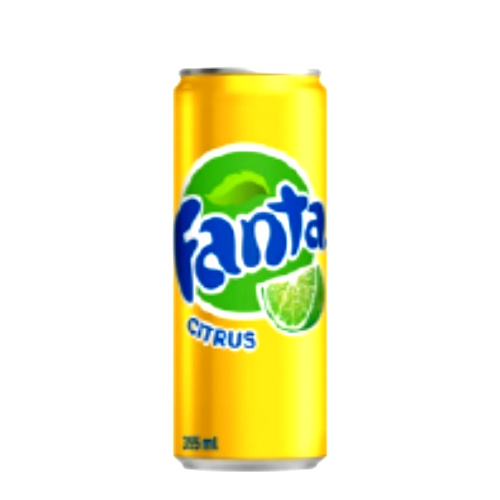Fanta: (137, 62, 344, 473)
